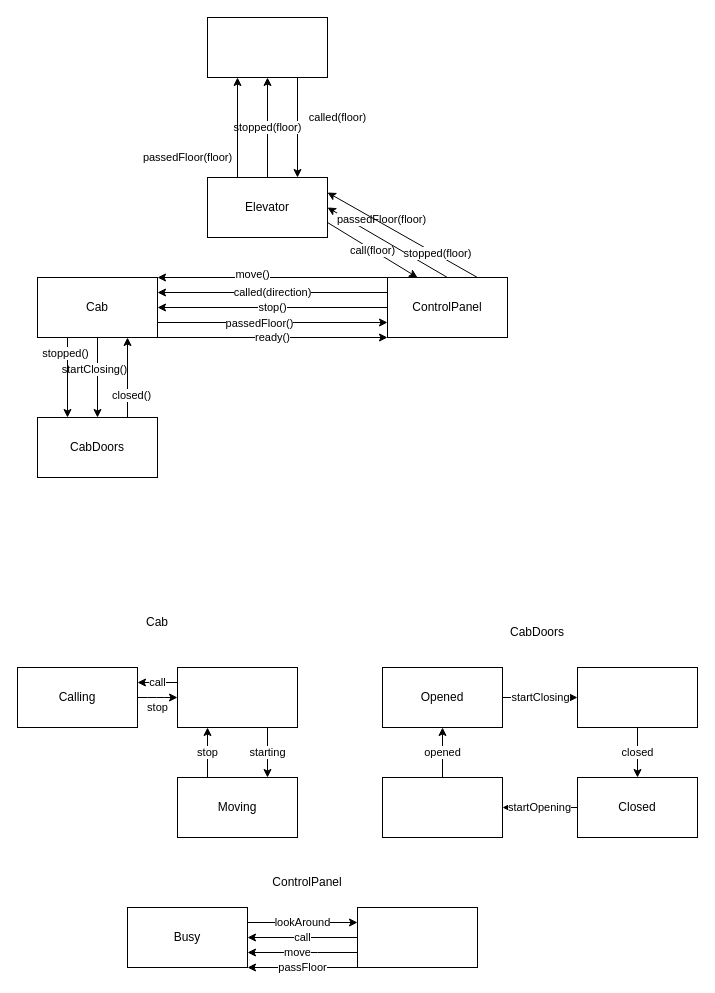
Image size: 715x993. Some labels were removed from this diagram. The shapes that lost their labels are listed below. From the top down, each one's centre as x and y in pixels, then its label:
At point (267, 47): "MainWindow".
At point (237, 697): "Standing".
At point (637, 697): "Closing".
At point (442, 807): "Opening".
At point (417, 937): "Idle".
